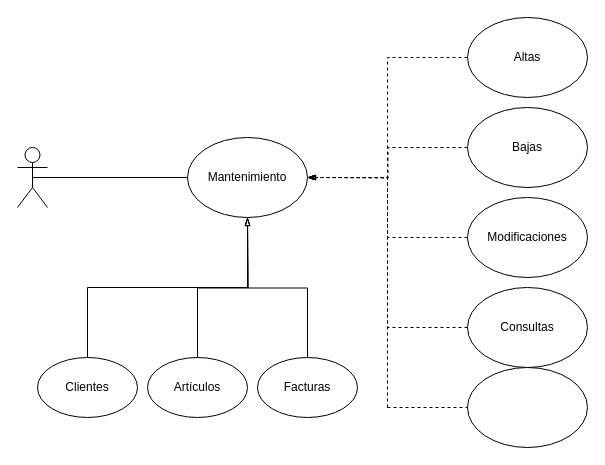
This 605x465 diagram has some shape labels left out. The box of each missing label's shape, as (x1, y1, x2, y2) in pixels:
Generación Informes: (466, 366, 588, 448)
User: (16, 146, 48, 208)
